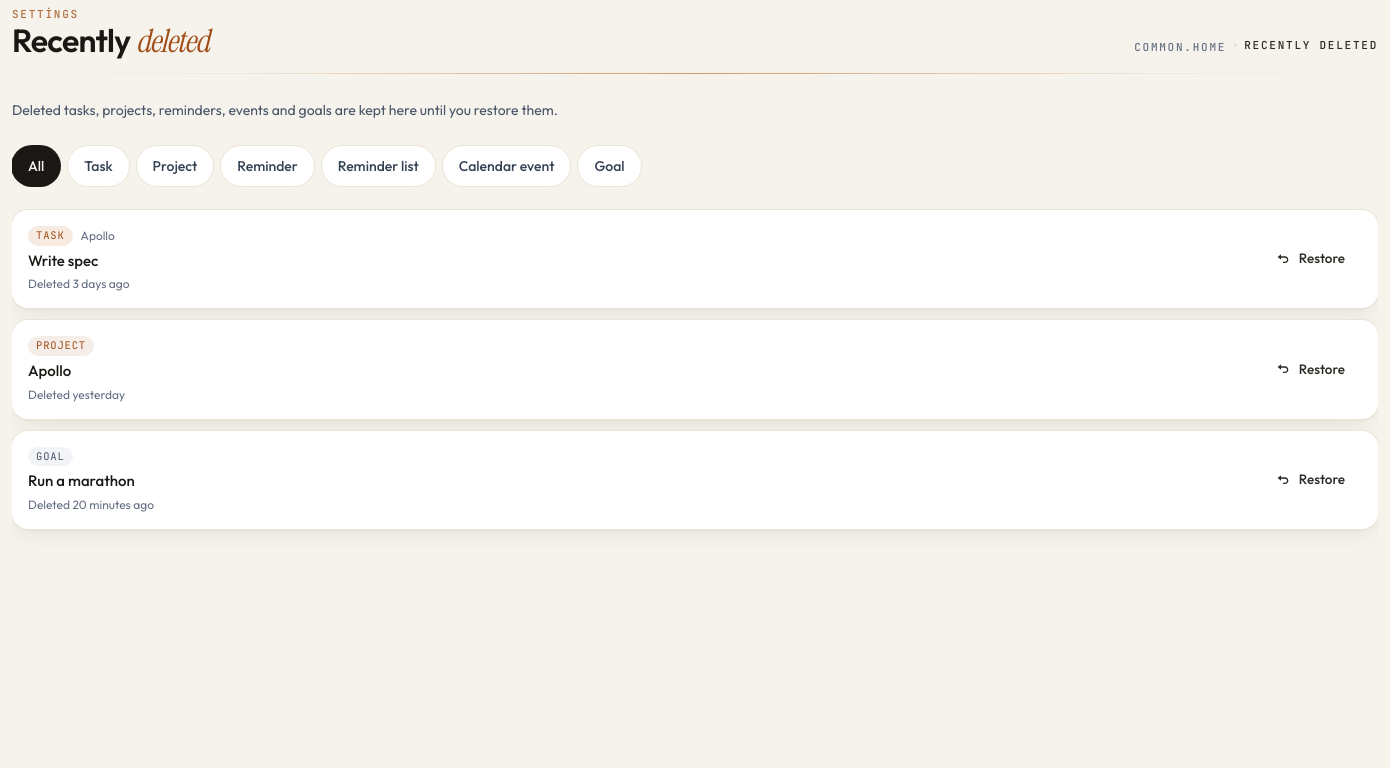
Test case: TrashPage restore › restores the row's own entry, hides it and shows a success alert
Click the button with aria-label "Restore Write spec": (1310, 259) top-left (1258, 239), bottom-right (1362, 279)
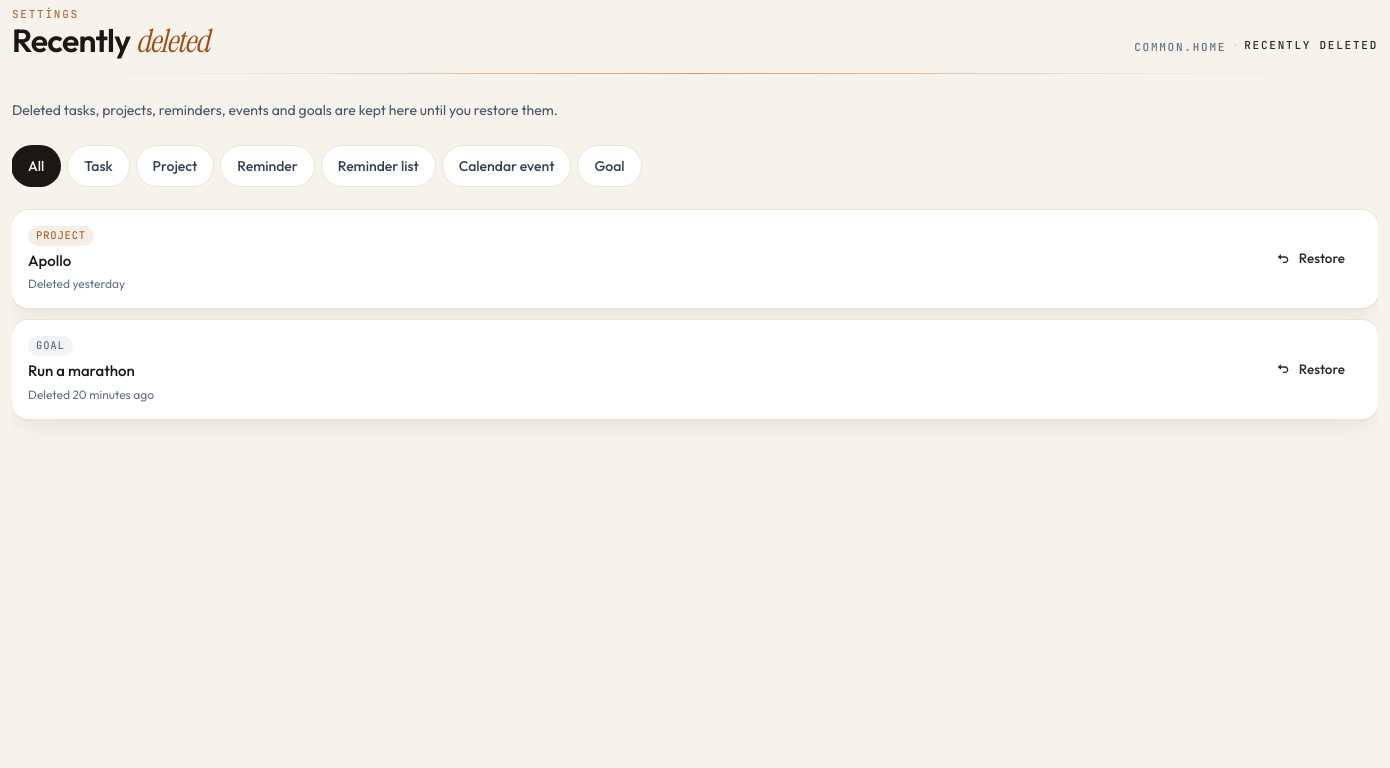
Check: the list item "Apollo" is shown, box top-left (28, 251), bottom-right (71, 270)
Check: the text "Write spec" is gone
